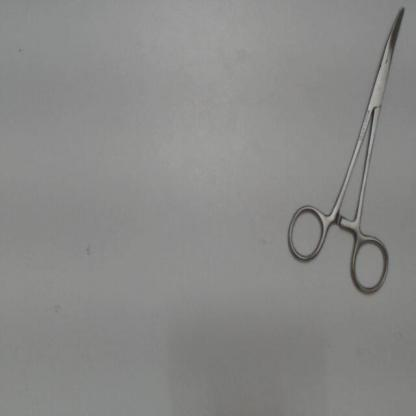Crile Artery Forceps: (283, 1, 409, 302)
